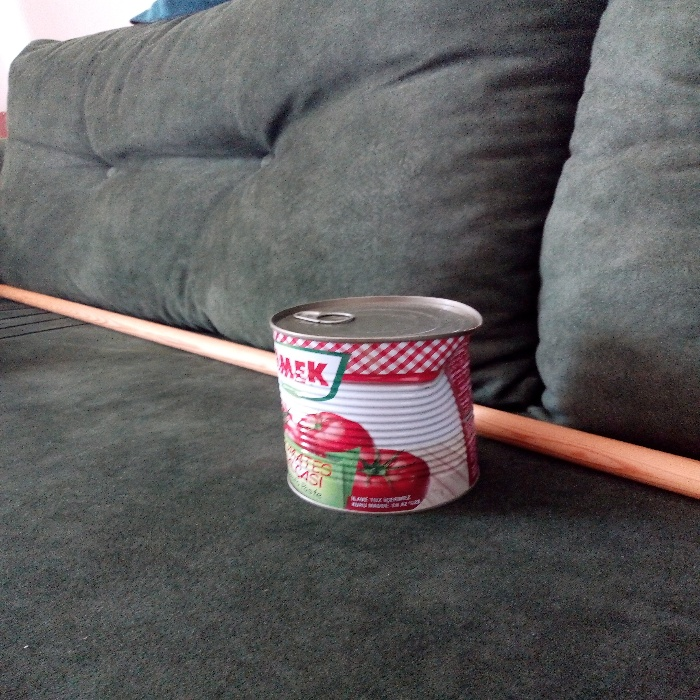salca: (262, 273, 505, 527)
